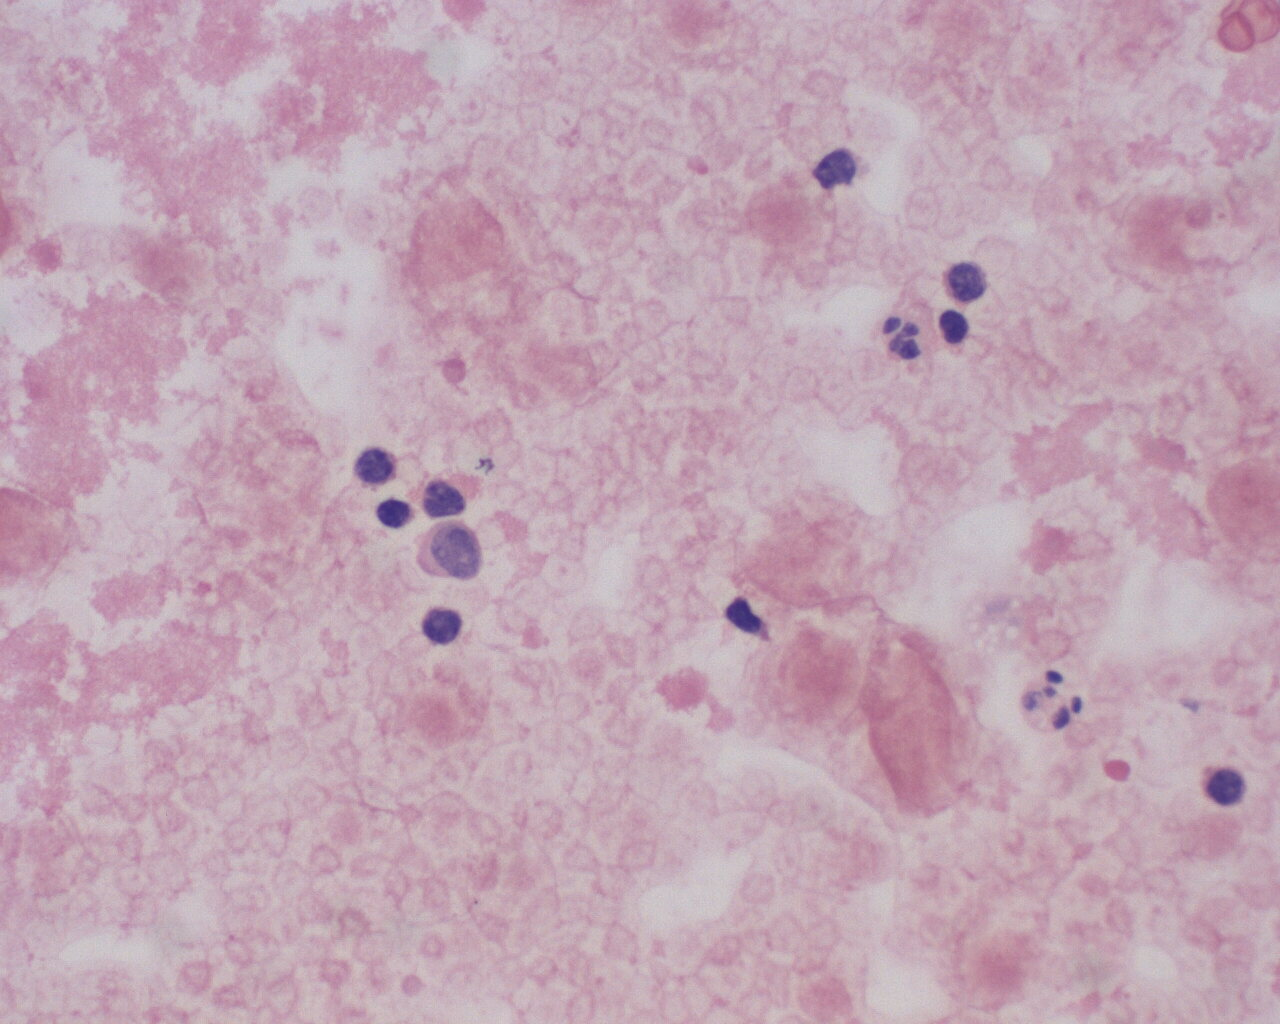ab: (411, 520, 485, 589)
lymph: (1202, 763, 1254, 815), (933, 309, 977, 352)
